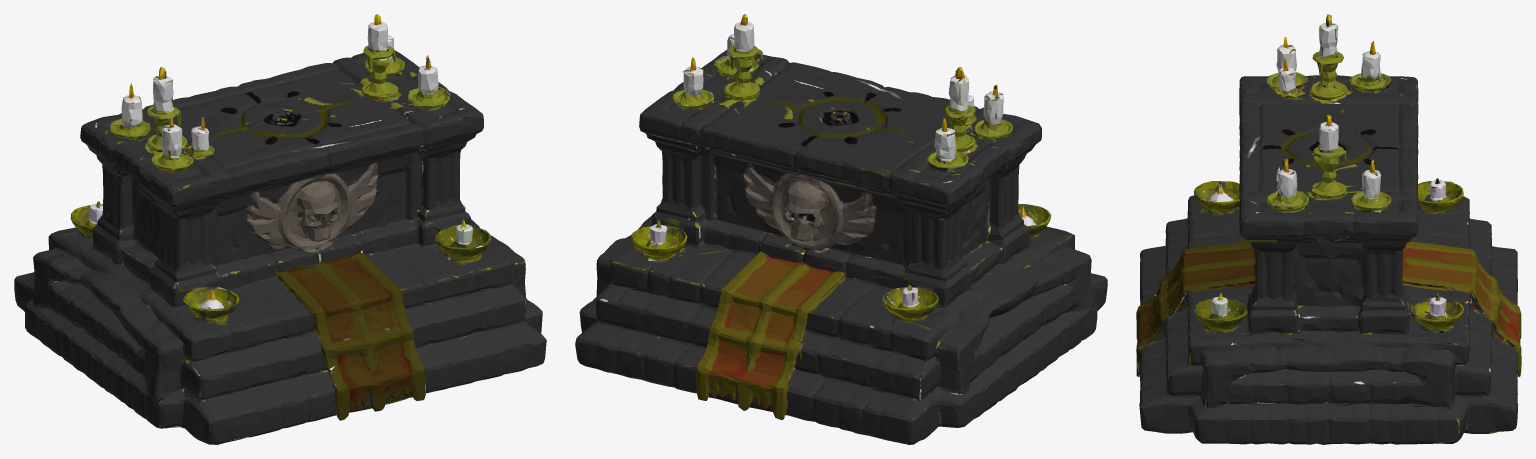
Rendered from altar.glb.
The picture shows the model from 3 angles, left to right: view 1: azimuth 30°, elevation 25°; view 2: azimuth 150°, elevation 25°; view 3: azimuth 270°, elevation 25°; orthographic projection. The views are drawn at different scales.
Visible parts, largest first — view 1: tmp1ikr8ghb.ply; view 2: tmp1ikr8ghb.ply; view 3: tmp1ikr8ghb.ply.
Boxes of the visible parts, left/top/right/bottom form: tmp1ikr8ghb.ply: left=14, top=14, right=546, bottom=444; tmp1ikr8ghb.ply: left=575, top=14, right=1107, bottom=444; tmp1ikr8ghb.ply: left=1136, top=14, right=1521, bottom=444.
Size of the model in its own units: 1.96 by 1.47 by 1.77.
1 material, 1 textured.
